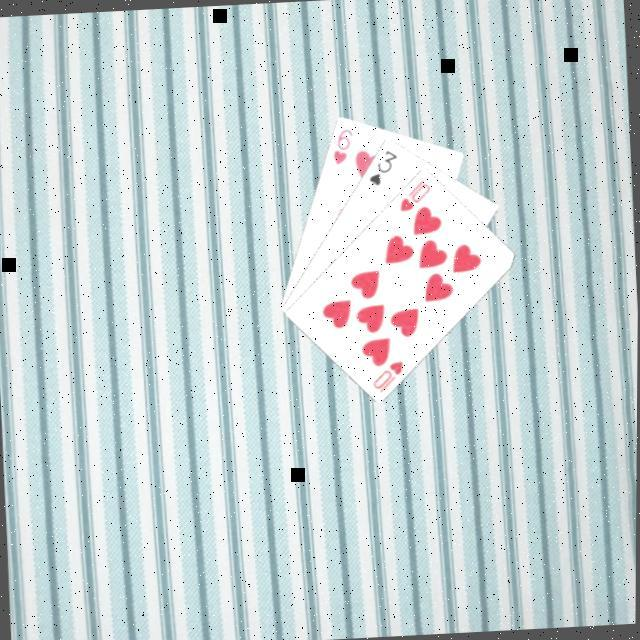10H: (394, 176, 434, 216), (368, 358, 406, 398)
3S: (363, 147, 400, 190)
6H: (328, 126, 356, 168)
